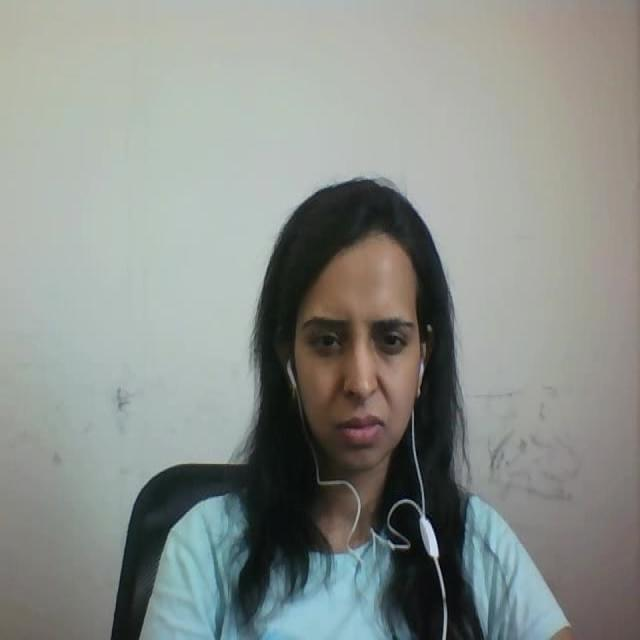Bored: (236, 166, 483, 498)
